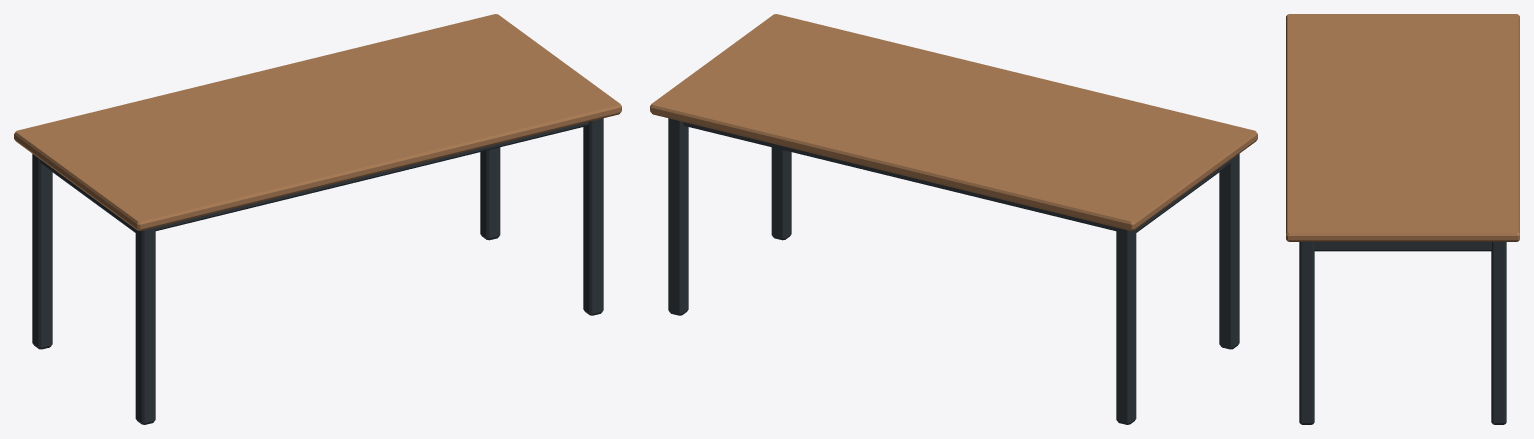
File: mesa-reuniao.obj
The picture shows the model from 3 angles, left to right: view 1: azimuth 30°, elevation 25°; view 2: azimuth 150°, elevation 25°; view 3: azimuth 270°, elevation 25°; orthographic projection. The views are drawn at different scales.
Visible parts, largest first — view 1: mesa-reuniao_carvalho, mesa-reuniao_metal_escuro; view 2: mesa-reuniao_carvalho, mesa-reuniao_metal_escuro; view 3: mesa-reuniao_carvalho, mesa-reuniao_metal_escuro.
Part boxes in pixels (bbox=[...]): mesa-reuniao_carvalho: bbox=[14, 14, 621, 230]; mesa-reuniao_metal_escuro: bbox=[32, 118, 603, 424]; mesa-reuniao_carvalho: bbox=[650, 14, 1257, 230]; mesa-reuniao_metal_escuro: bbox=[668, 118, 1239, 424]; mesa-reuniao_carvalho: bbox=[1286, 14, 1519, 241]; mesa-reuniao_metal_escuro: bbox=[1299, 242, 1506, 424].
Bounding box in the file's own units: 1.87 × 0.78 × 0.84.
